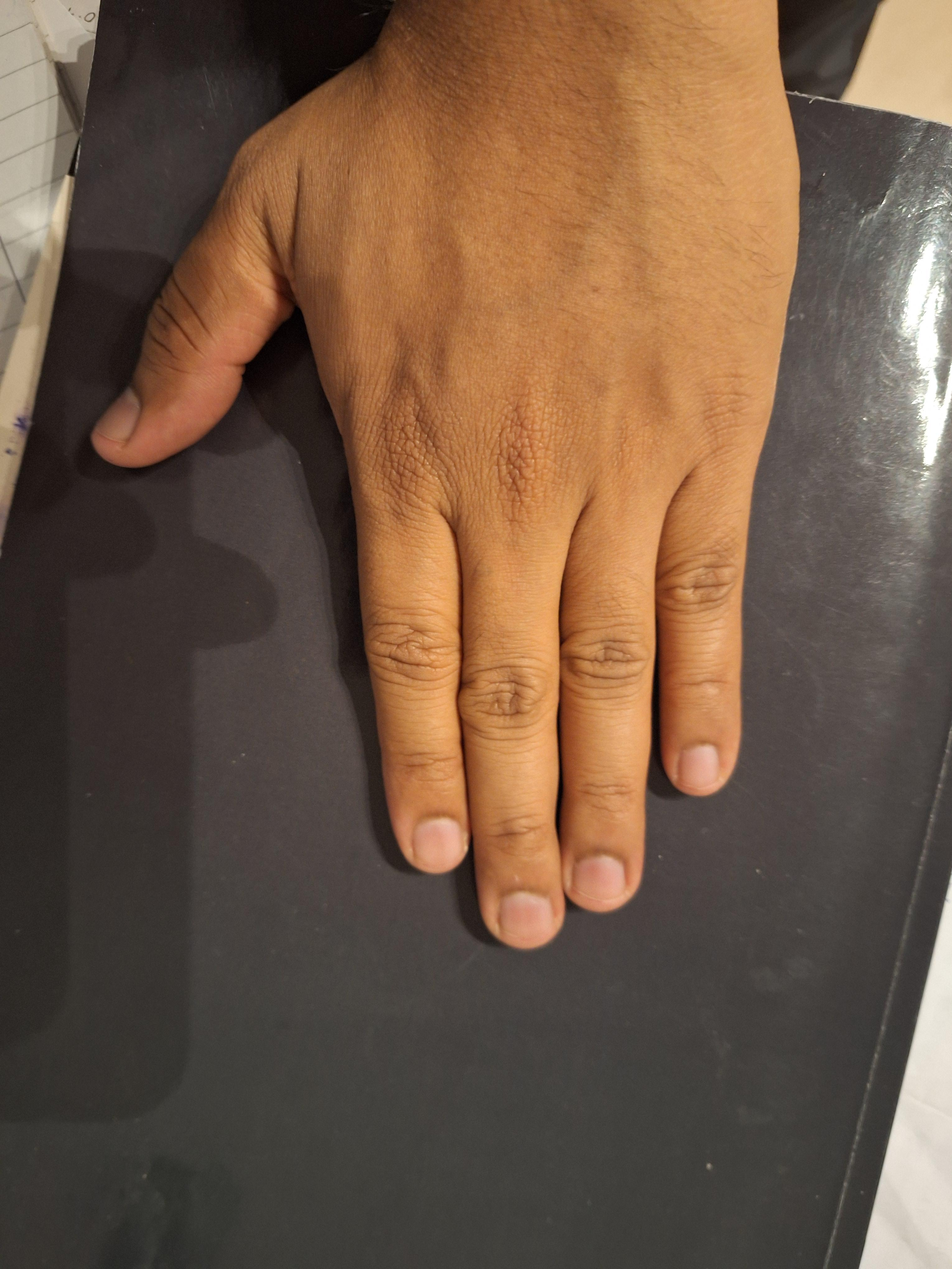Fingernail: (413, 816, 464, 867), (95, 388, 141, 444), (573, 855, 627, 900), (500, 892, 552, 938), (680, 745, 719, 790)
